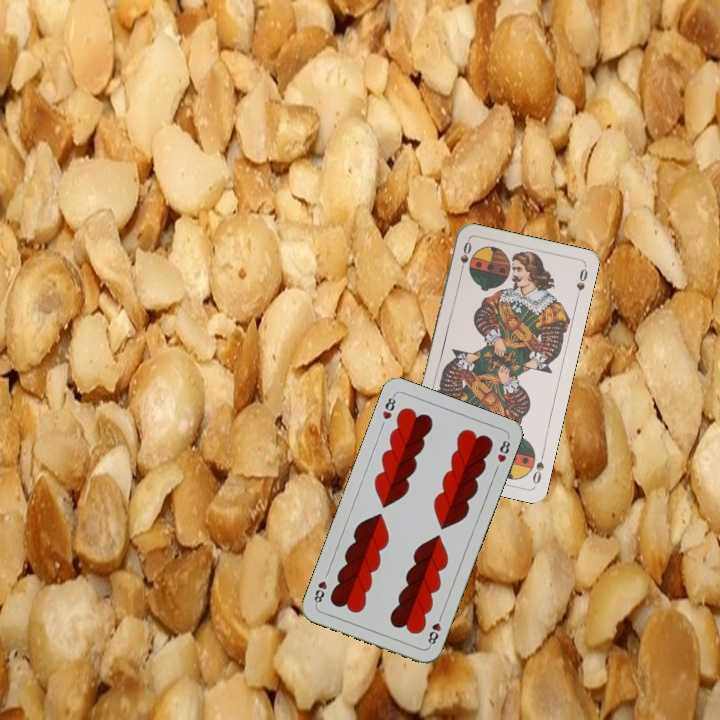H8: (424, 610, 445, 649), (378, 391, 398, 422)
SO: (456, 237, 474, 277), (529, 447, 547, 487)
